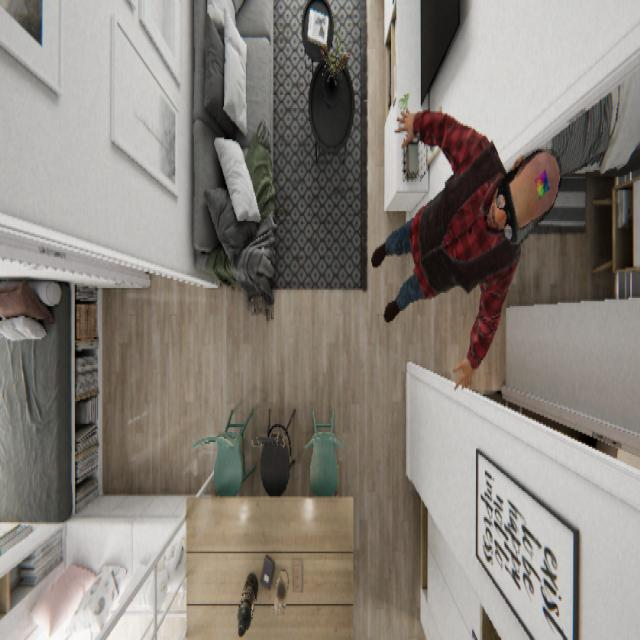Colored-Marker: (533, 165, 551, 200)
Human: (370, 105, 562, 391)
